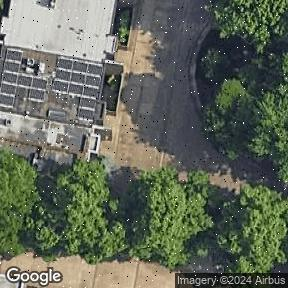vegetation: (198, 0, 288, 189), (111, 5, 133, 45)
